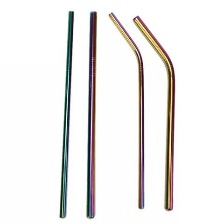drinking_straw: (130, 10, 184, 213), (102, 8, 149, 212), (51, 7, 79, 220), (83, 8, 103, 220)
